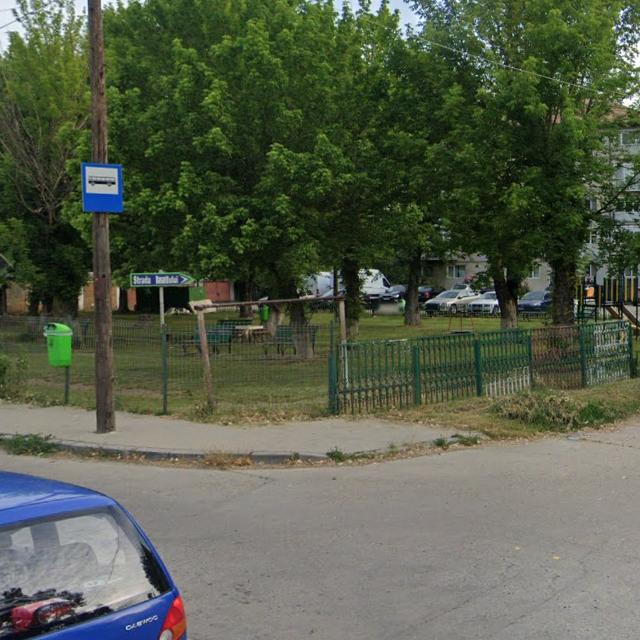info_bus_station: (82, 164, 124, 212)
